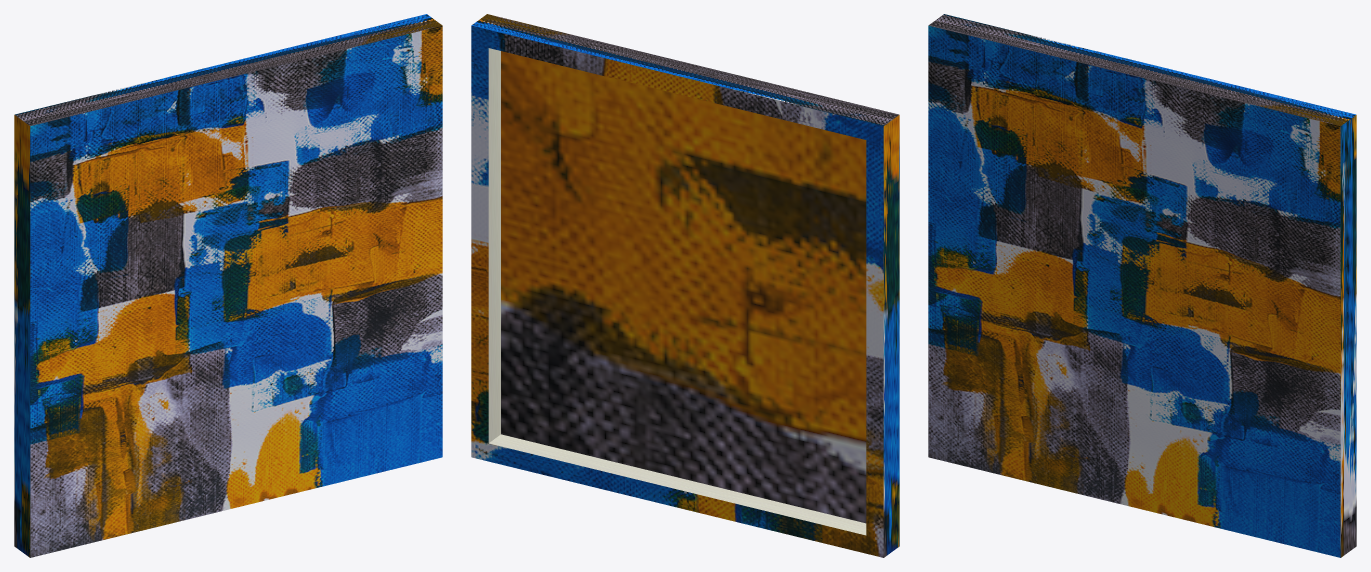
The model's file is Picture_1.fbx.
3 renders of one model, left to right at view 1: azimuth 30°, elevation 25°; view 2: azimuth 150°, elevation 25°; view 3: azimuth 330°, elevation 25°, orthographic.
Visible parts, largest first — view 1: Picture_1; view 2: Picture_1; view 3: Picture_1.
Part boxes in pixels (left/top/right/bottom): Picture_1: left=14, top=14, right=442, bottom=557; Picture_1: left=471, top=14, right=899, bottom=557; Picture_1: left=928, top=14, right=1356, bottom=557.
Size of the model in its own units: 30 by 30 by 2.
